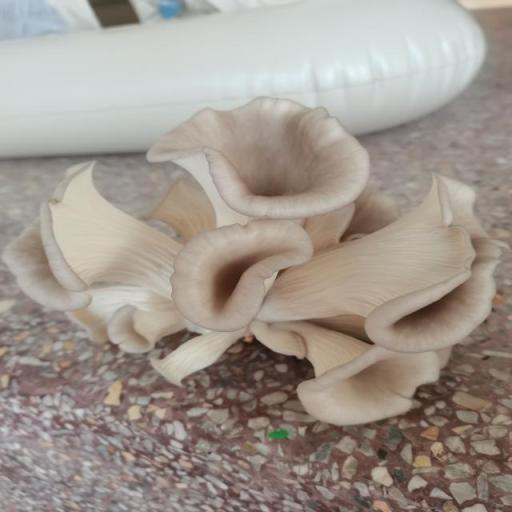White Oyster Mushroom: (0, 82, 512, 445)
